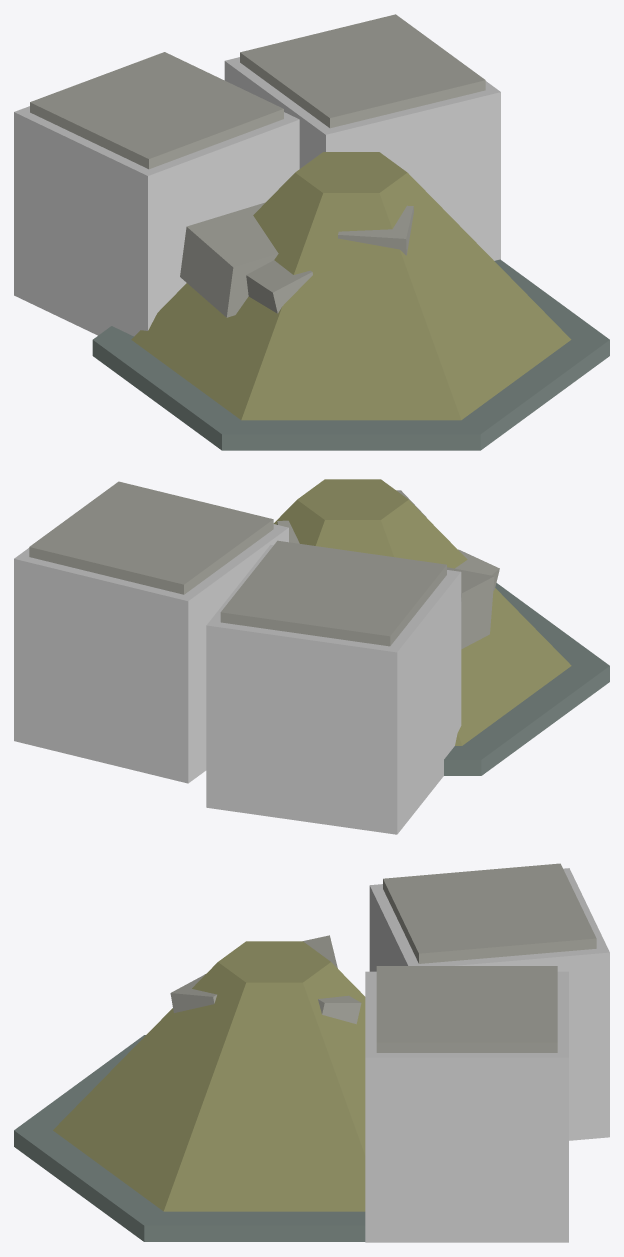
The model's file is SM_MontonEscombro_v4_Sacas_LOD1.fbx.
3 views of the same model, one above another, from view 1: azimuth 30°, elevation 25°; view 2: azimuth 150°, elevation 25°; view 3: azimuth 270°, elevation 25° (orthographic).
Visible parts, largest first — view 1: SM_monton_escombro_v4_LOD1; view 2: SM_monton_escombro_v4_LOD1; view 3: SM_monton_escombro_v4_LOD1.
Boxes of the visible parts, left/top/right/bottom form: SM_monton_escombro_v4_LOD1: left=14, top=14, right=609, bottom=450; SM_monton_escombro_v4_LOD1: left=14, top=479, right=609, bottom=834; SM_monton_escombro_v4_LOD1: left=14, top=863, right=609, bottom=1242.
Bounding box in the file's own units: 2 × 0.95 × 2.63.
